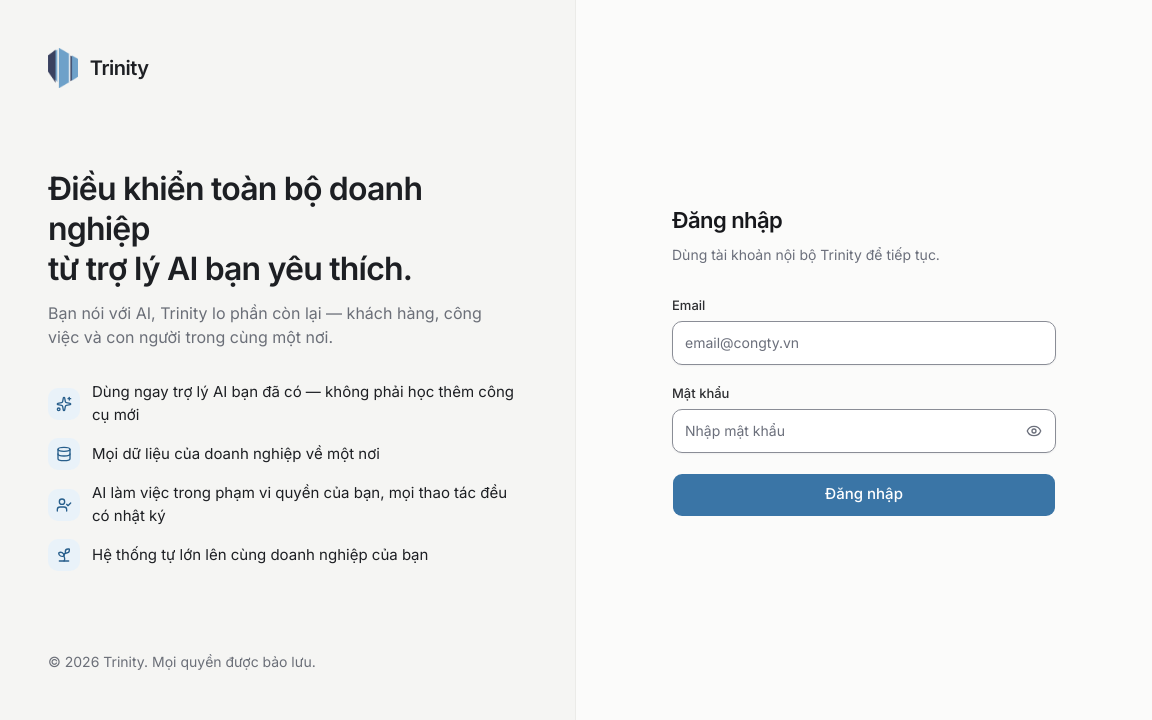
Test: Login Page › should show error message on invalid credentials (401)
In the field with placeholder "email@congty.vn": [864, 342] box x1=672 y1=320 x2=1056 y2=364, type "wrong@example.com"
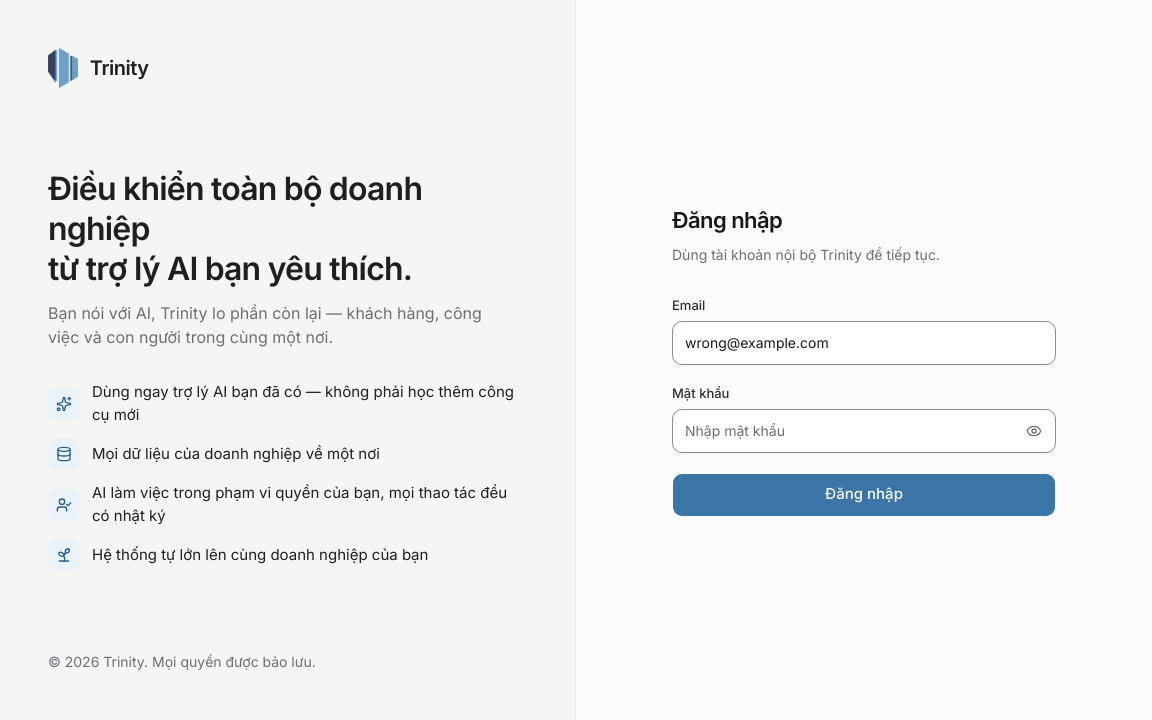
In the password field with placeholder "Nhập mật khẩu": [864, 430] box x1=672 y1=408 x2=1056 y2=452, type "wrongpass"
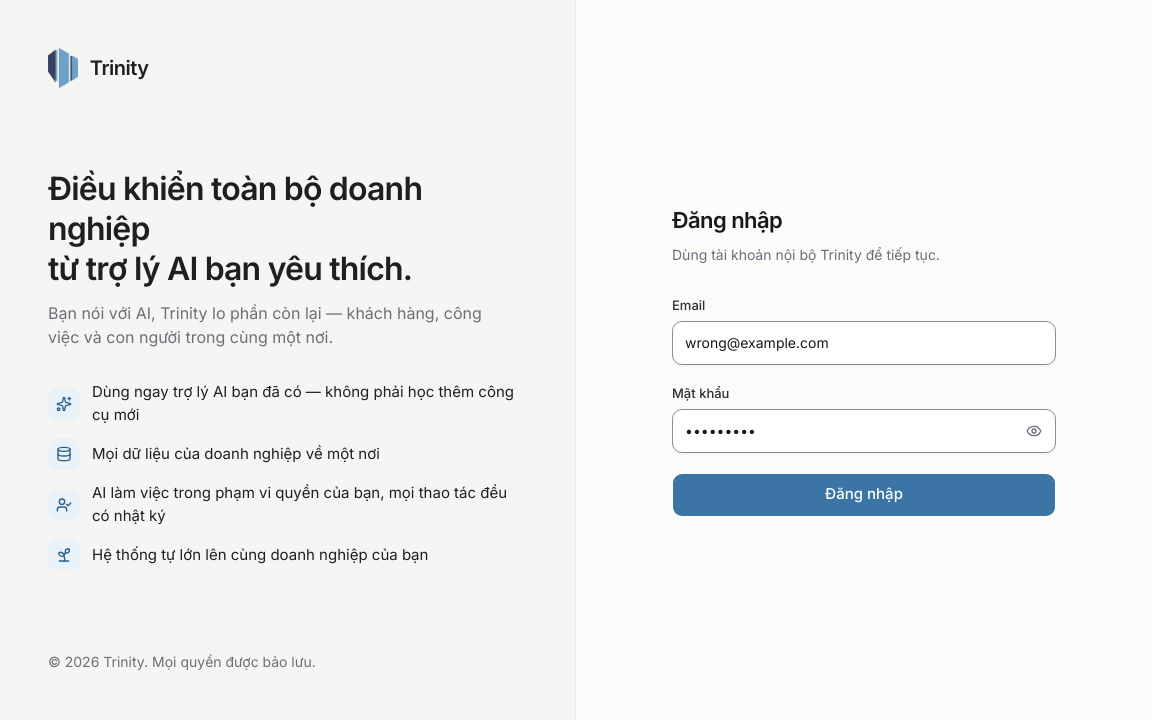
Click the button "Đăng nhập": [864, 494] box x1=672 y1=472 x2=1056 y2=516
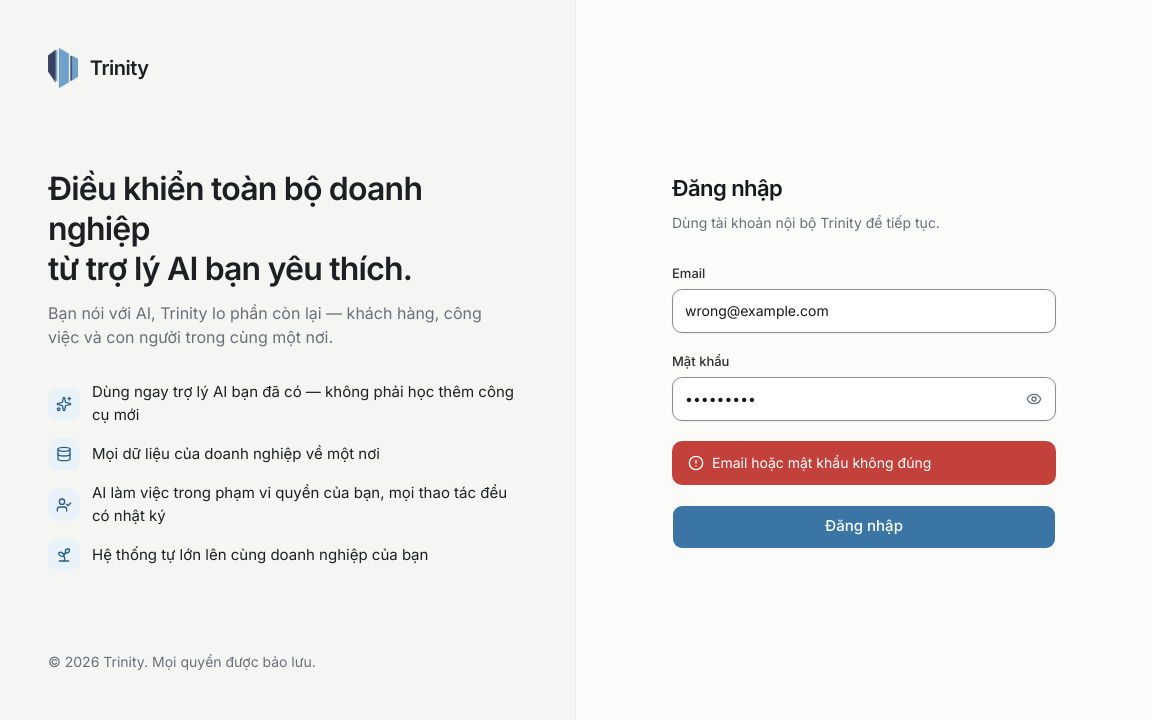
Check: the text "Email hoặc mật khẩu không đúng" is shown, box x1=712 y1=452 x2=931 y2=472
